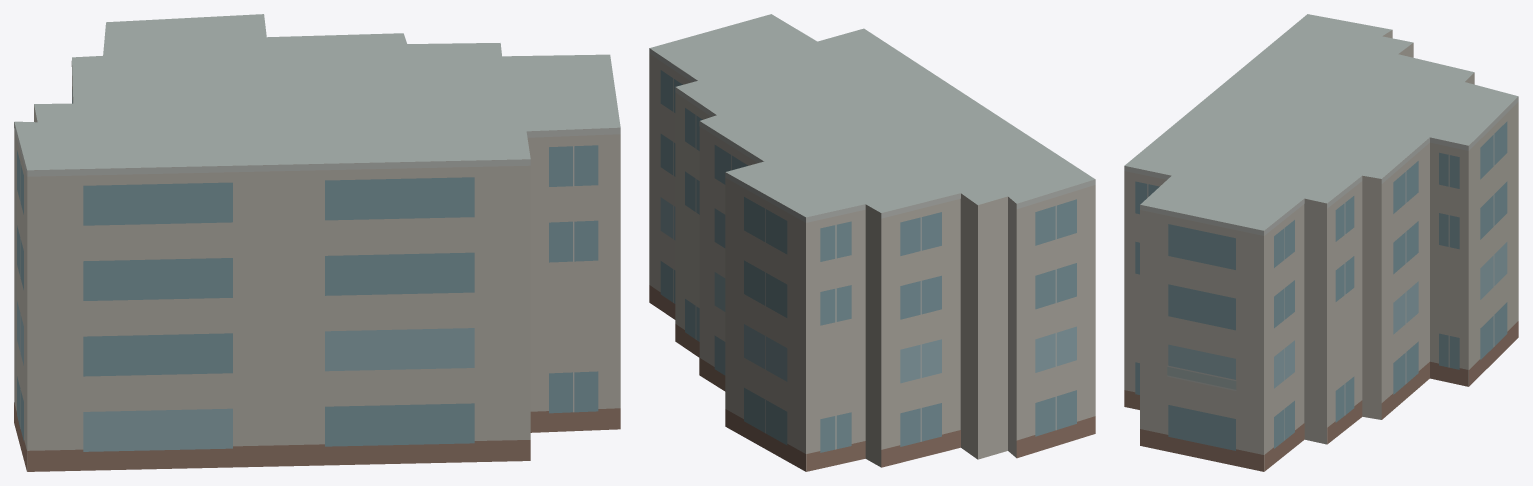
The model's file is survey-upis-32487483.glb.
The picture shows the model from 3 angles, left to right: view 1: azimuth 30°, elevation 25°; view 2: azimuth 150°, elevation 25°; view 3: azimuth 270°, elevation 25°; orthographic projection. The views are drawn at different scales.
Visible parts, largest first — view 1: survey-upis-32487483.tmp; view 2: survey-upis-32487483.tmp; view 3: survey-upis-32487483.tmp.
Part boxes in pixels (left/top/right/bottom): survey-upis-32487483.tmp: left=14, top=14, right=620, bottom=471; survey-upis-32487483.tmp: left=649, top=14, right=1095, bottom=471; survey-upis-32487483.tmp: left=1124, top=14, right=1518, bottom=471.
Size of the model in its own units: 21.8 by 11.3 by 16.76.
